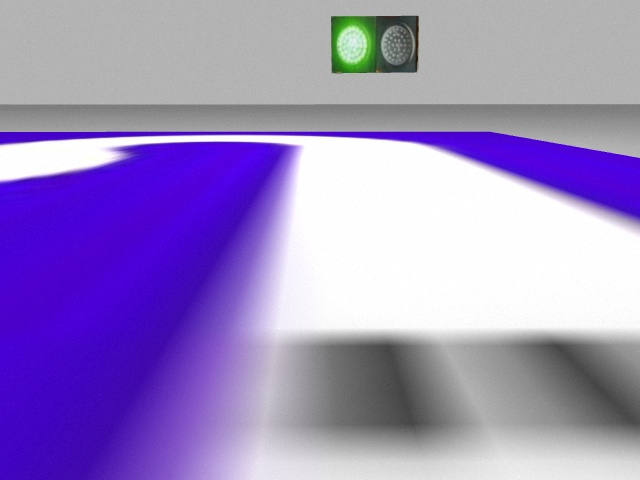green: (333, 16, 376, 72)
